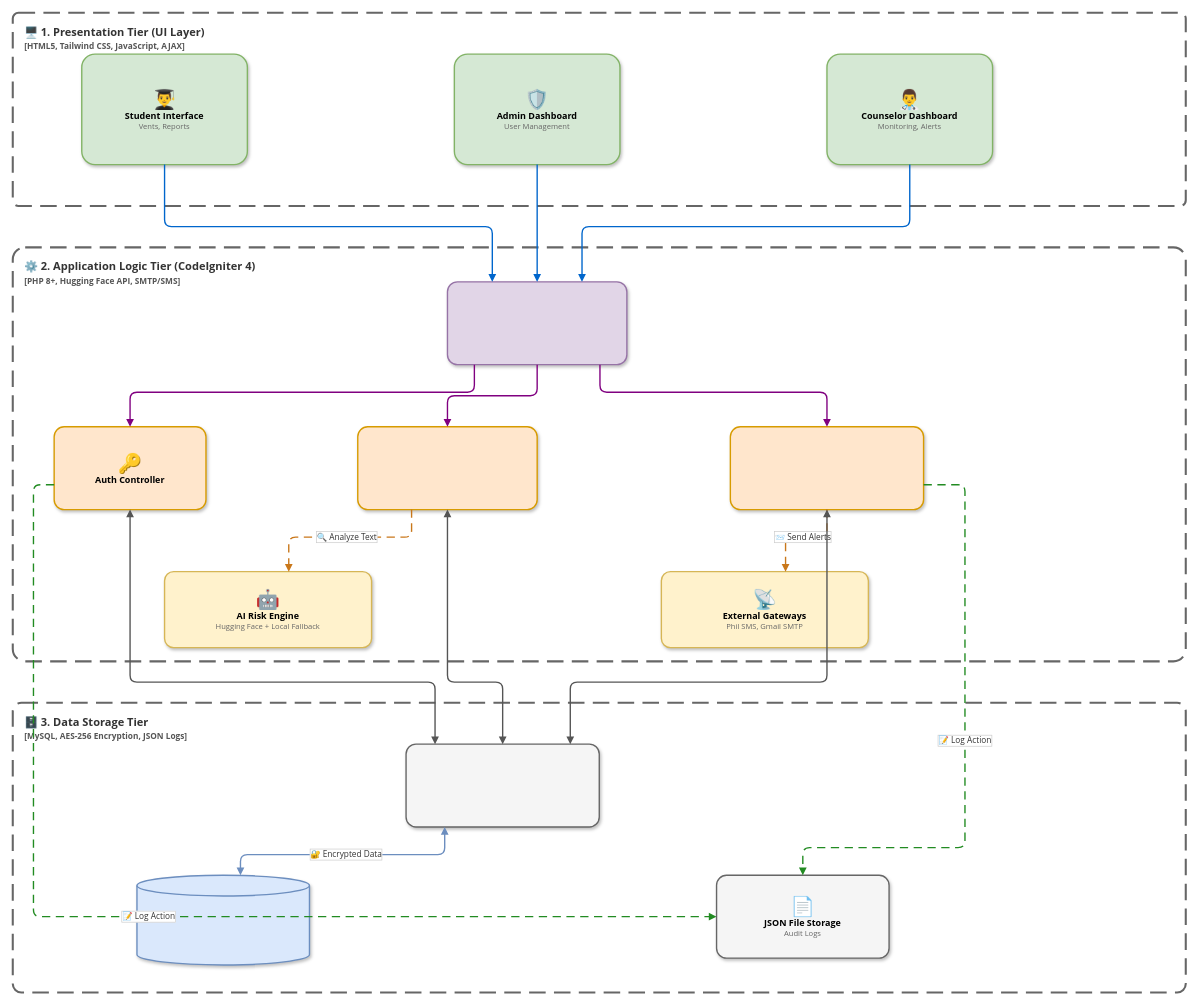
This 1199x1005 diagram has some shape labels left out. Here are the shapes that lost their labels. From the top down, the centre of each, then its label:
At [537,324]: "🚦 CI4 Routing & Security RBAC, Rate Limiter".
At [448,469]: "📝 Vent & Bully Controllers".
At [827,469]: "📋 Admin & Report Controllers".
At [503,786]: "🔒 AES-256 Encryption Module".
At [223,920]: "🛢️ MySQL Database Relational Storage".
